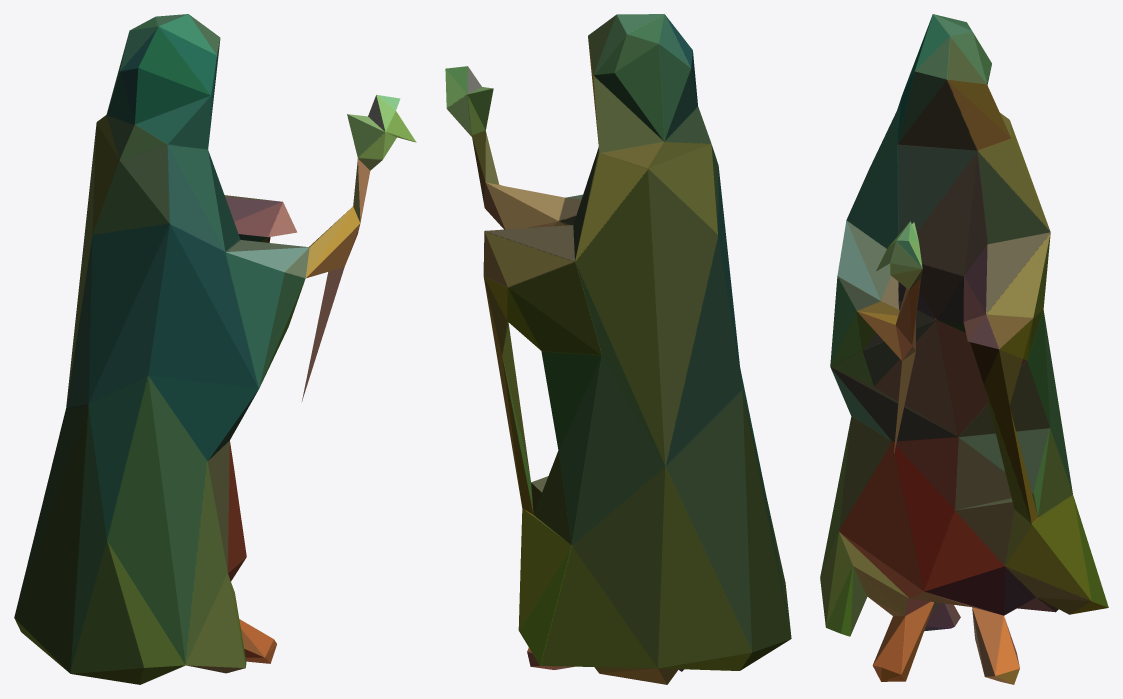
The model's file is shaman.fbx.
The picture shows the model from 3 angles, left to right: view 1: azimuth 30°, elevation 25°; view 2: azimuth 150°, elevation 25°; view 3: azimuth 270°, elevation 25°; orthographic projection. The views are drawn at different scales.
Visible parts, largest first — view 1: Mesh_0; view 2: Mesh_0; view 3: Mesh_0.
Part boxes in pixels (<box>): Mesh_0: <box>14,14,416,684</box>; Mesh_0: <box>445,14,791,684</box>; Mesh_0: <box>820,14,1108,684</box>.
Bounding box in the file's own units: 105 × 188 × 77.76.
Materials: 1 (1 with a texture image).
